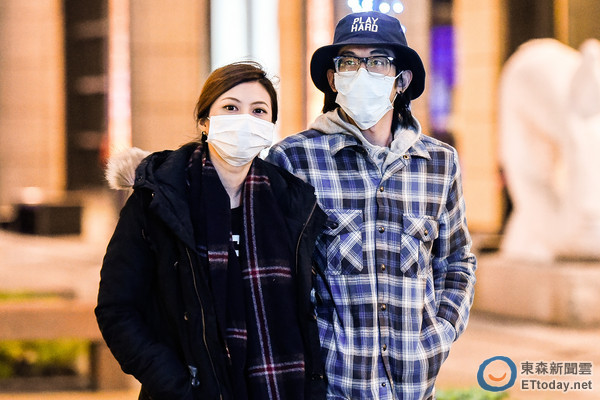mask: (328, 71, 398, 129), (201, 112, 277, 164)
